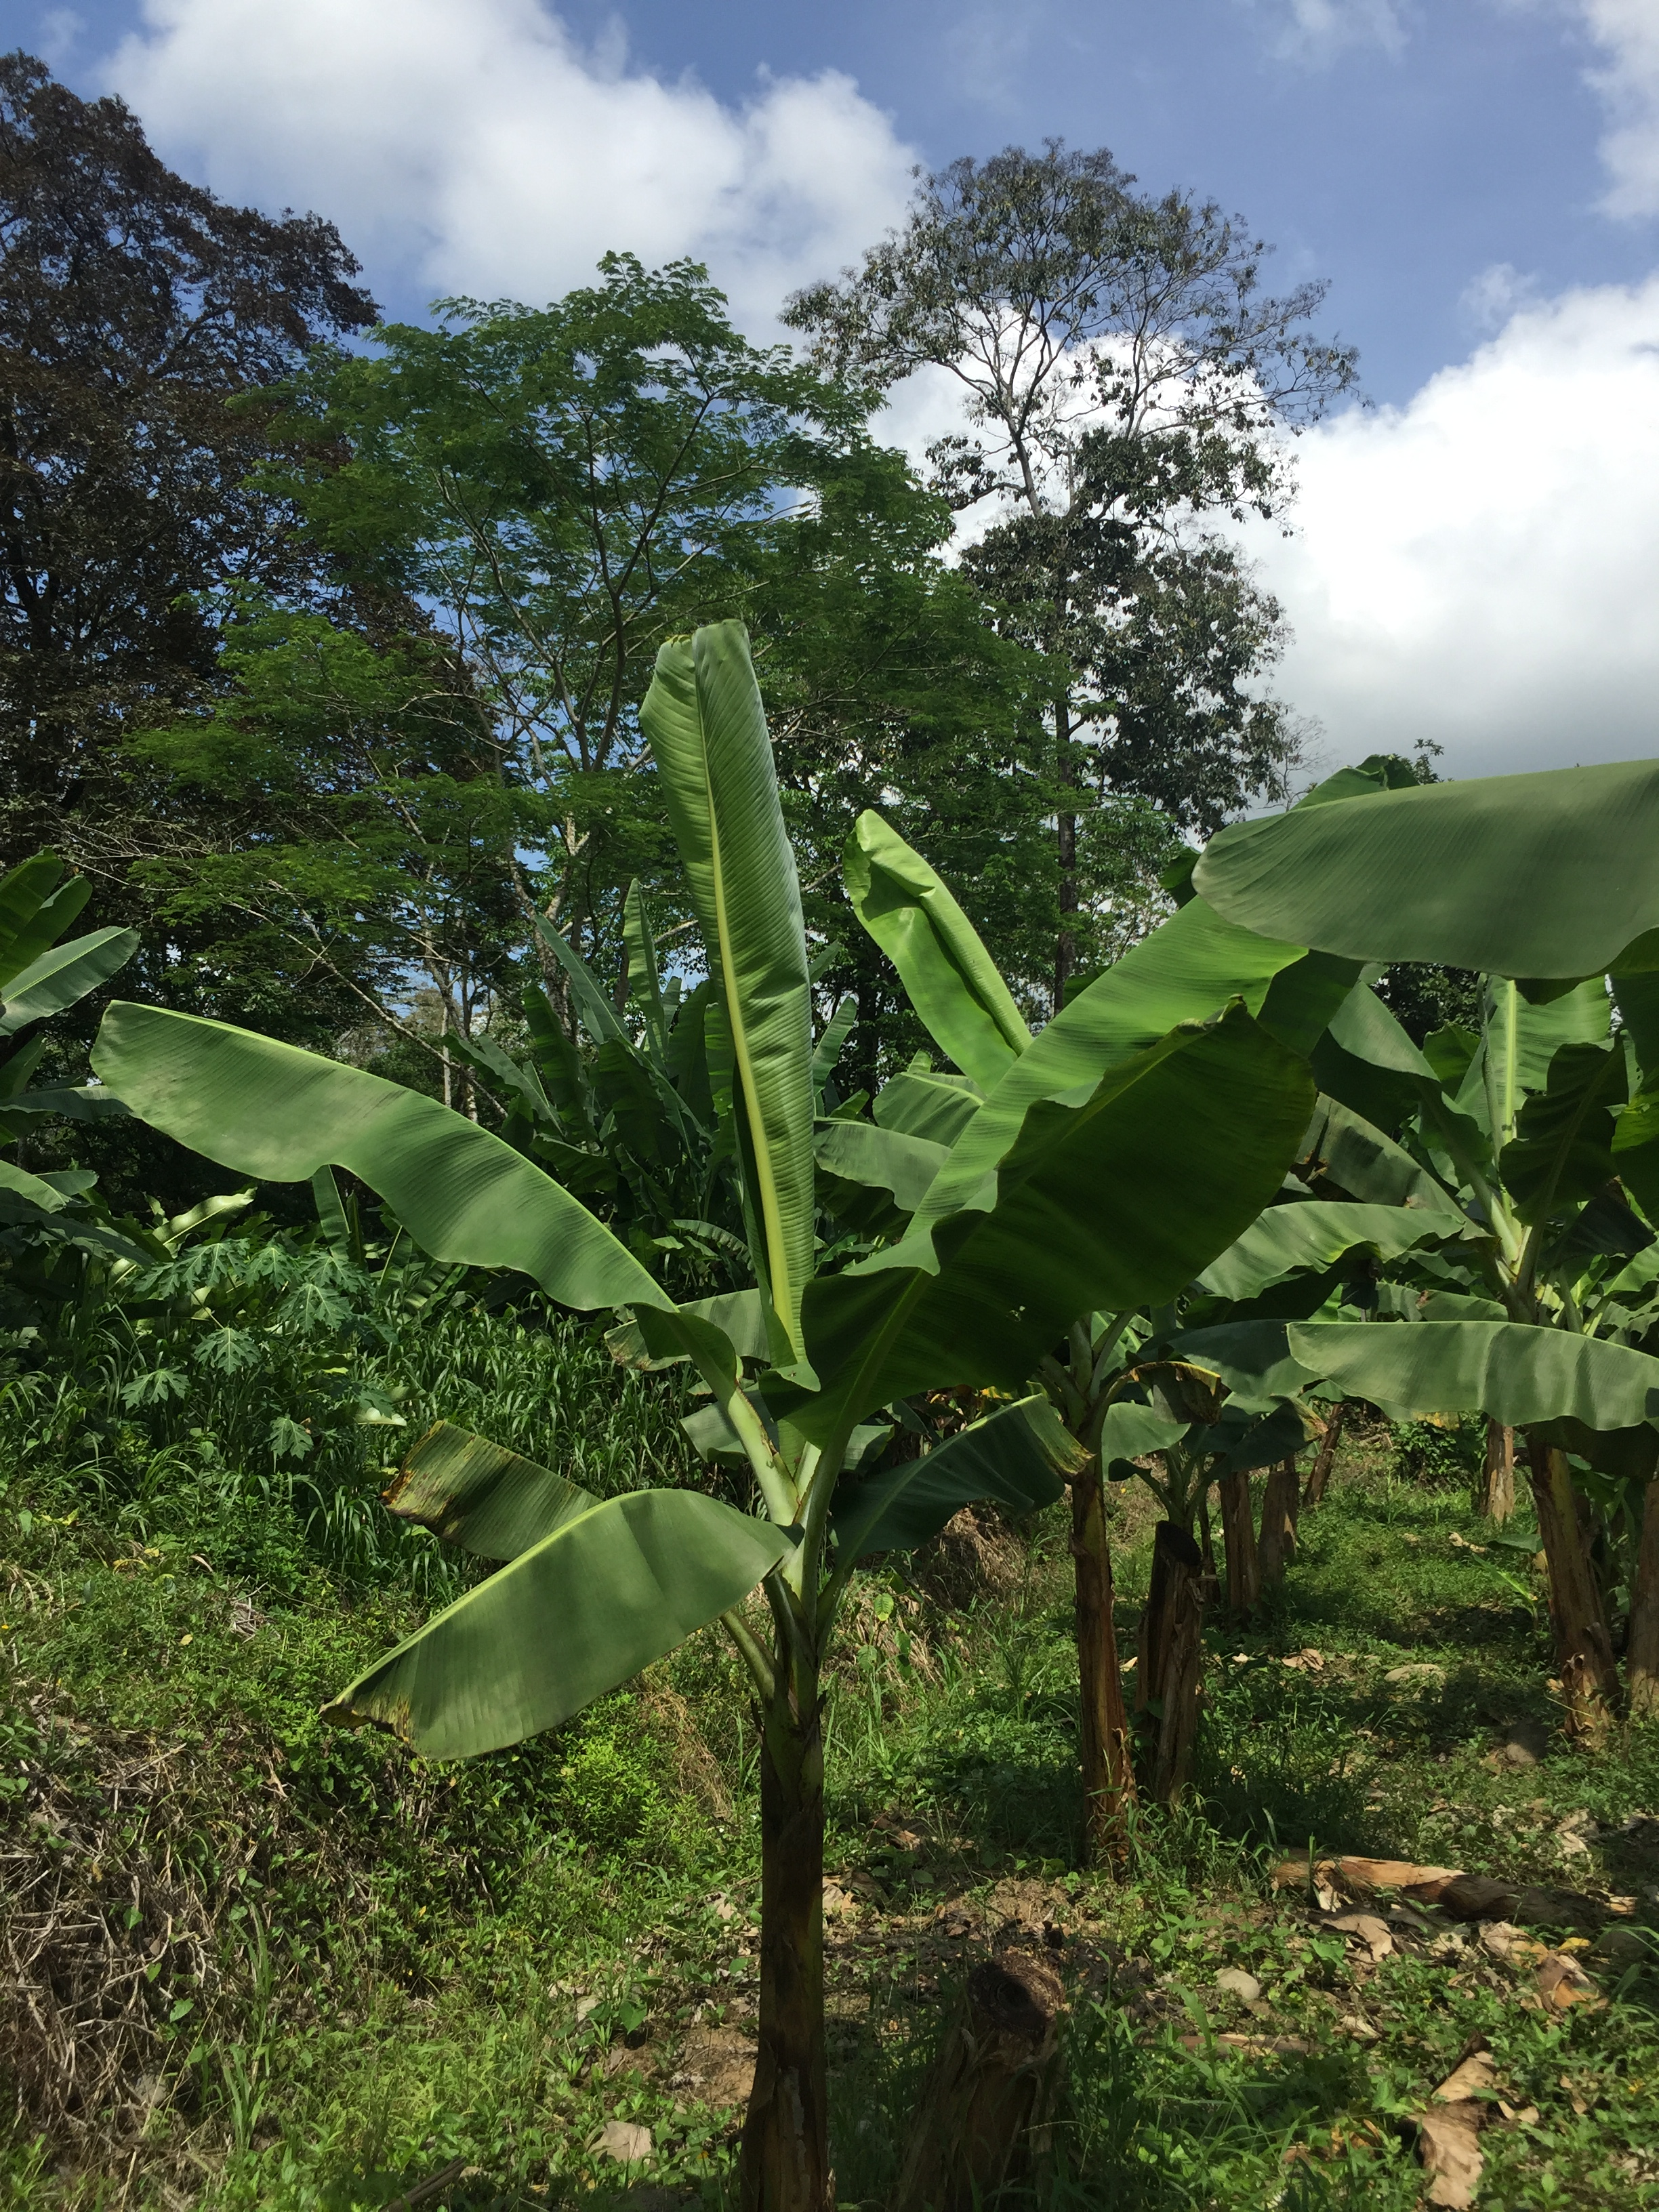candleleafs: (636, 618, 814, 1388)
